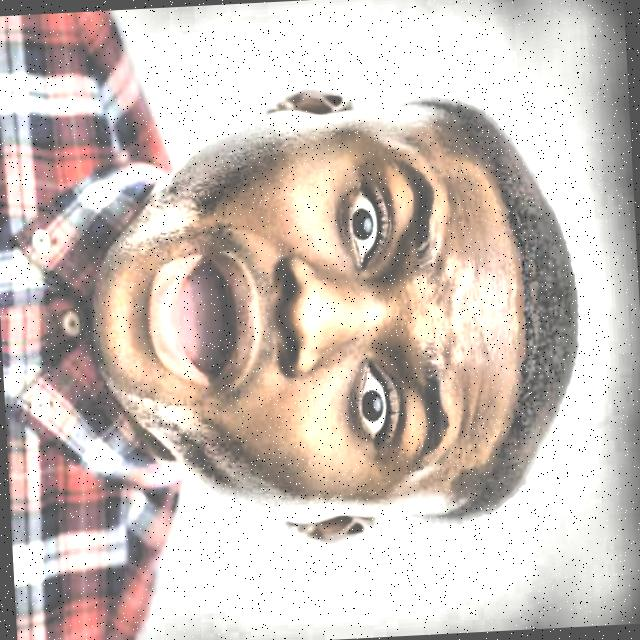surprised: (88, 67, 593, 564)
